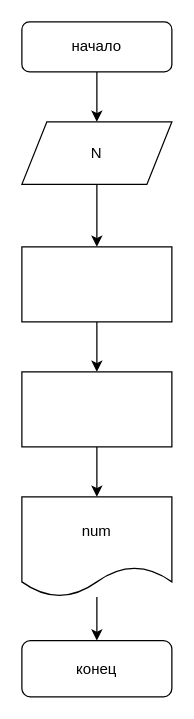
This 194x719 diagram has some shape labels left out. The centre of each missing label's shape, as x and y in pixels:
"num = num * num;" belongs at (x=96, y=409).
"num = random(1,N)" belongs at (x=96, y=284).
